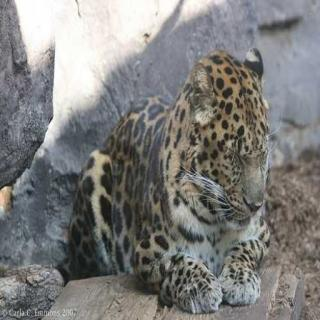Leopard: (57, 37, 301, 306)
